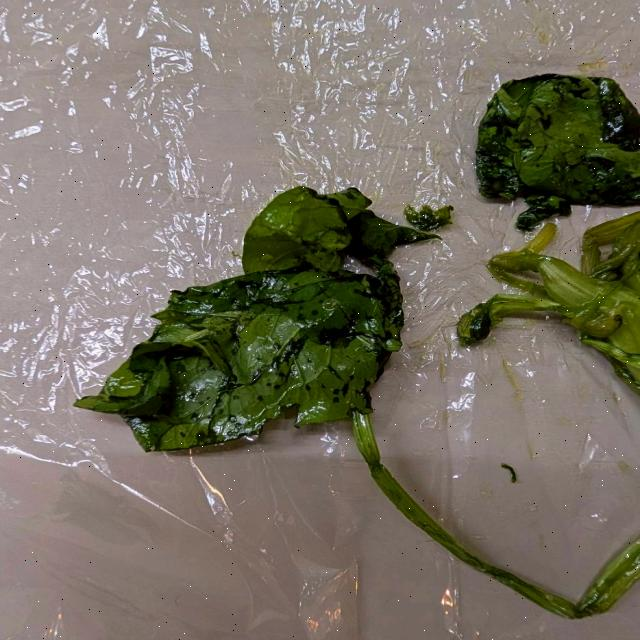rotten spinach: (120, 70, 640, 640), (107, 143, 446, 524), (438, 66, 640, 243)
